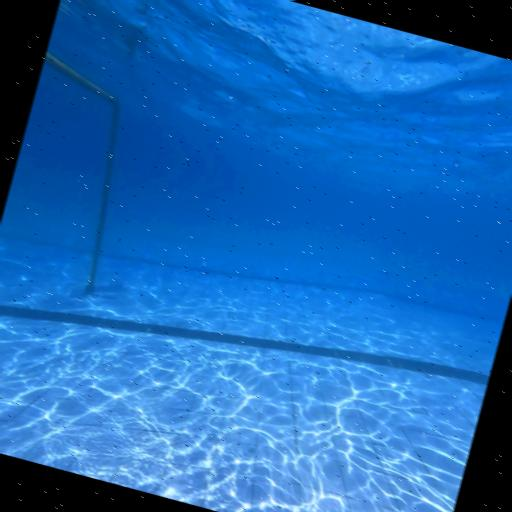gate: (0, 42, 177, 363)
